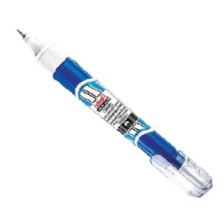correction_fluid: (13, 26, 214, 201)
